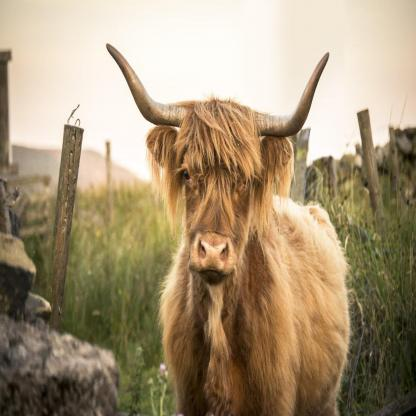cow: (145, 99, 349, 416)
